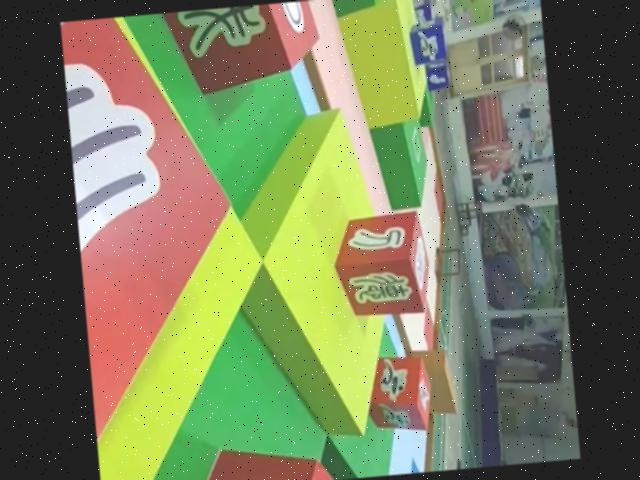R1: (359, 349, 438, 436)
R2 Fake: (147, 0, 327, 100), (326, 206, 436, 323)
R2 Real: (157, 433, 353, 480)
